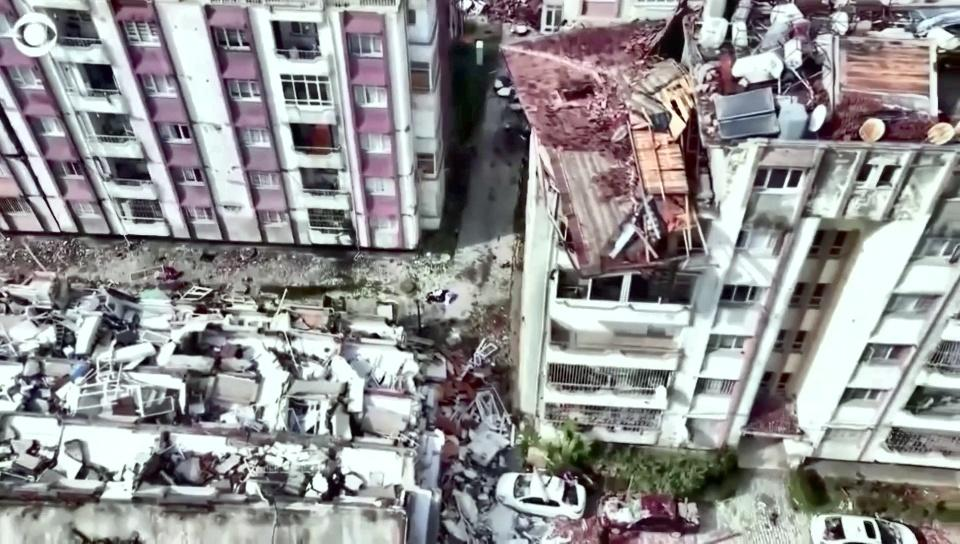kapali: (412, 224, 515, 543)
